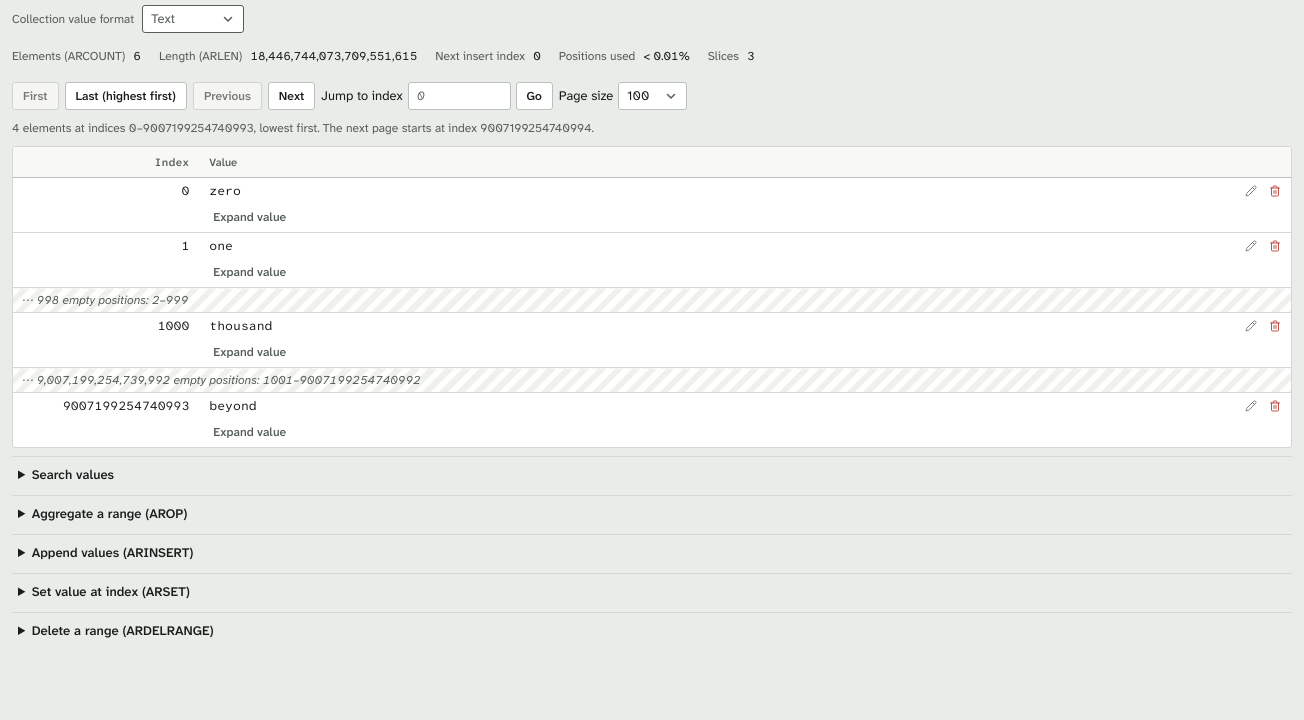
Test: array inspector: search and aggregates › computes an aggregate over a range and shows Redis's text
Click the heading "Aggregate a range (AROP)" at (110, 514), box [32,505,187,522]
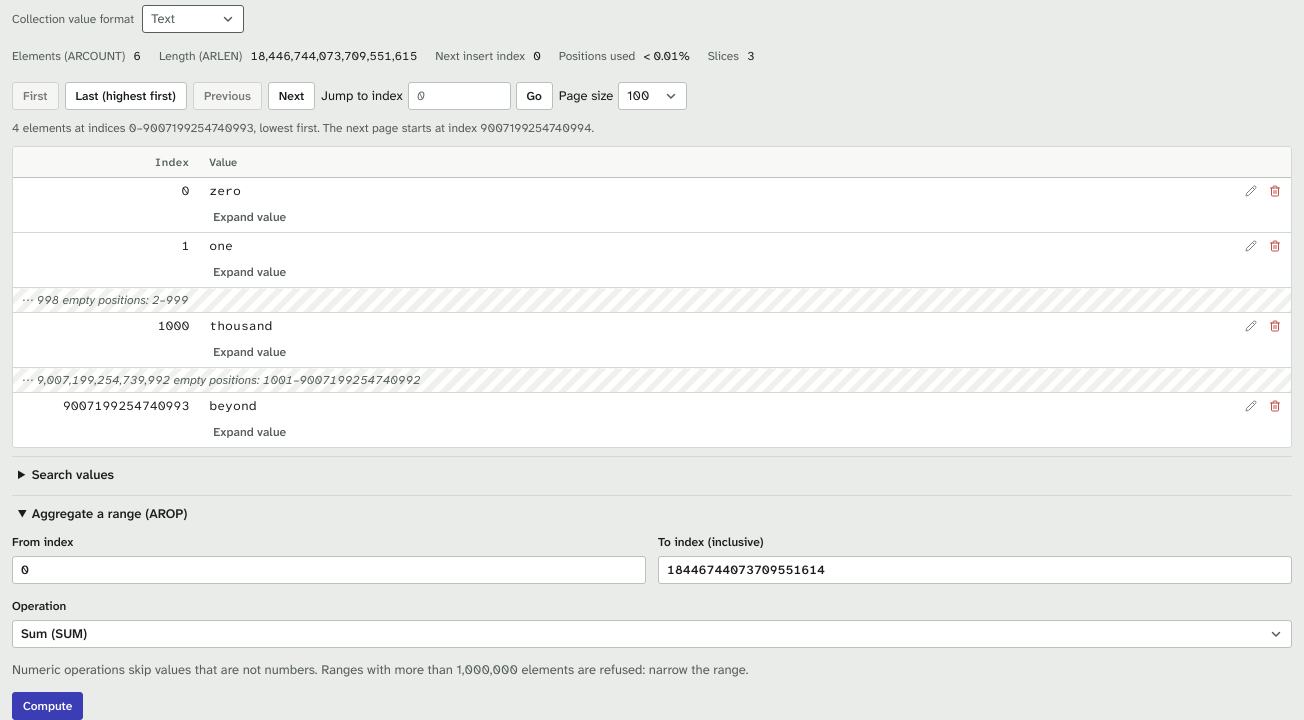
Replace the text in the field with test id "array-aggregate-end" with "9" at (975, 570), box [658,556,1292,584]
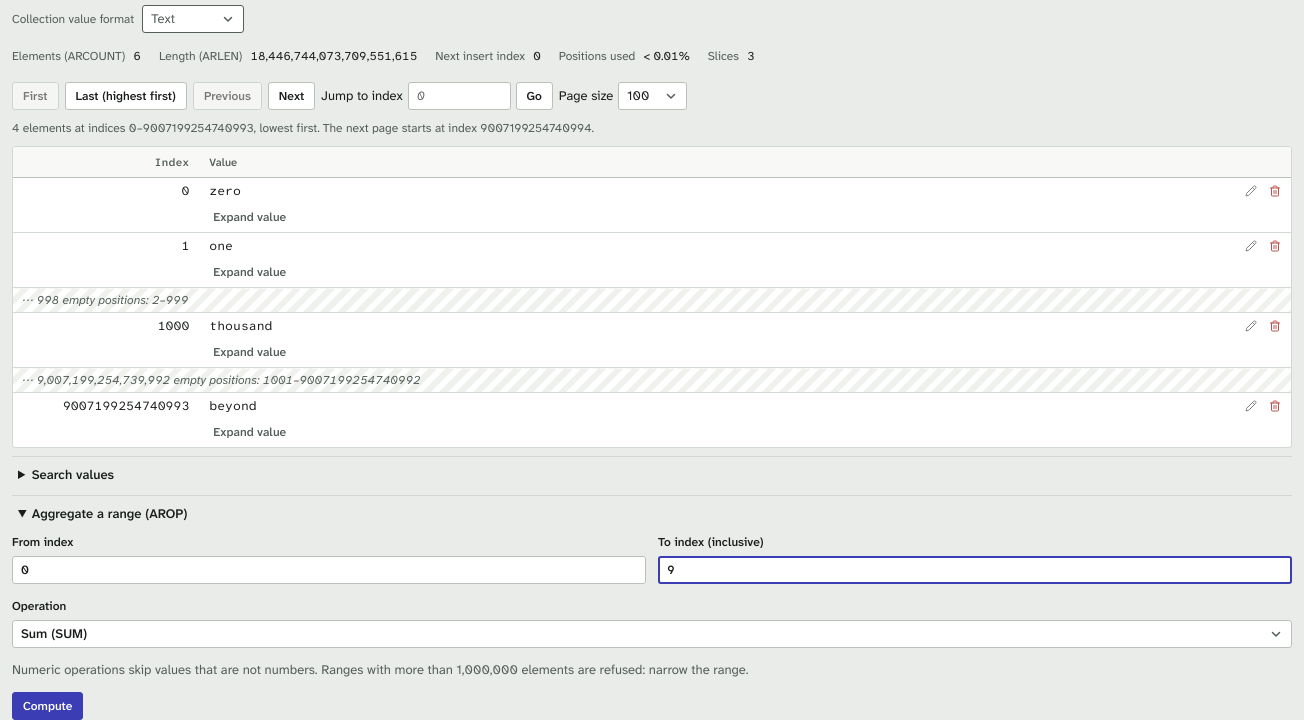
Click the button with test id "array-aggregate-submit" at (48, 706), box [12,692,83,719]
(page scrolled)
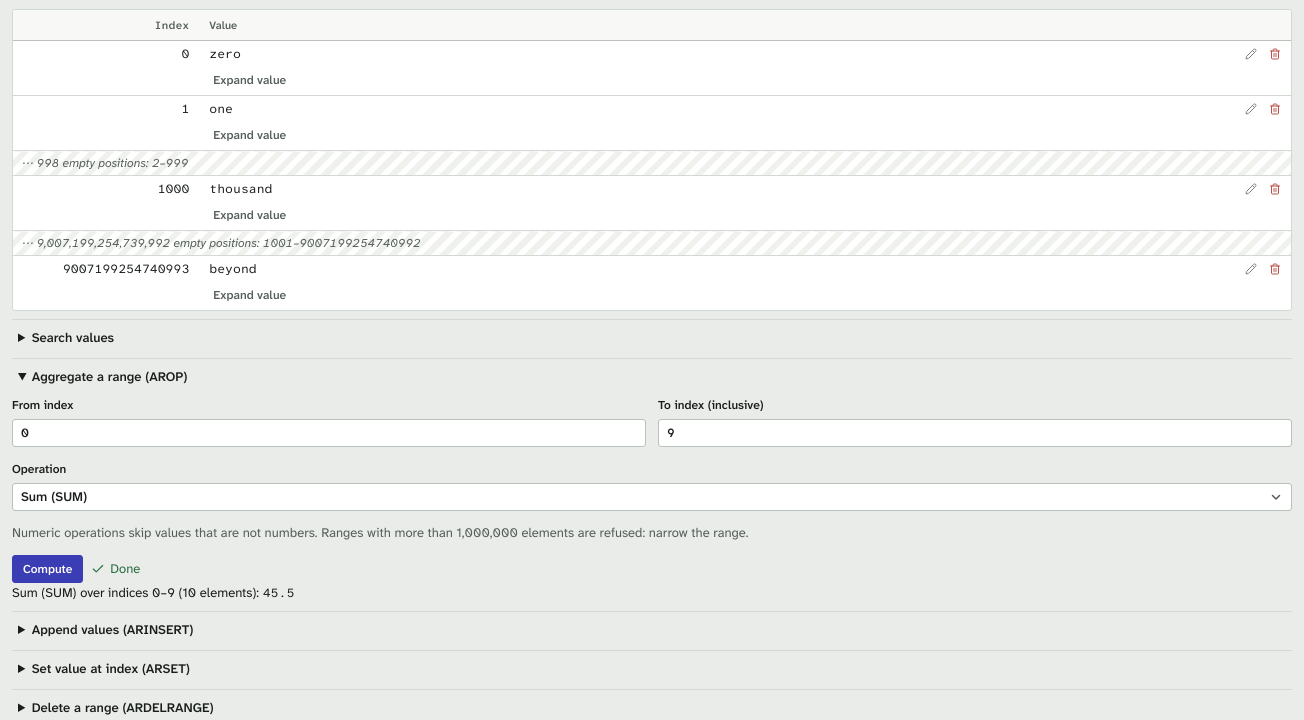
expect the message with test id "array-aggregate-result" reads "Sum (SUM) over indices 0–9 (10 elements): 45.5": met, box [12,584,294,601]
